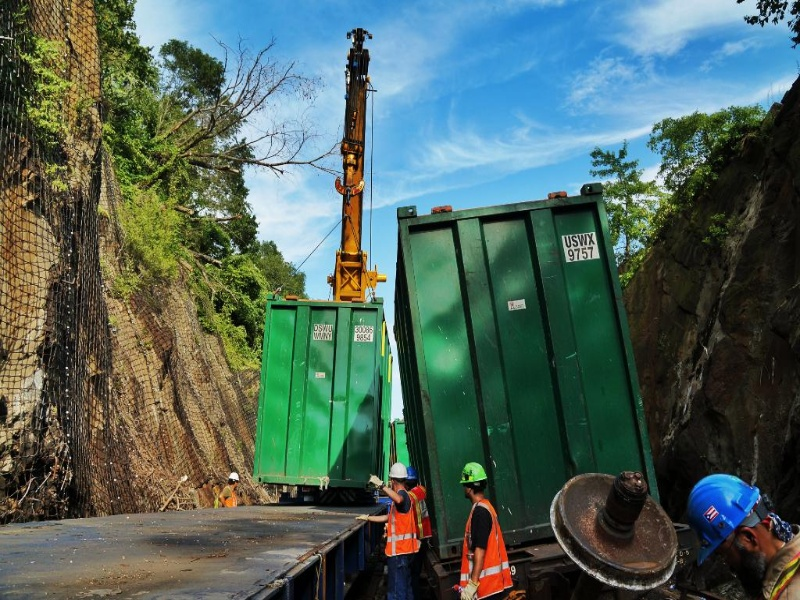helmet: (689, 475, 764, 557), (459, 463, 488, 483), (390, 464, 410, 476)
jacket: (460, 502, 516, 596), (383, 488, 425, 551)
